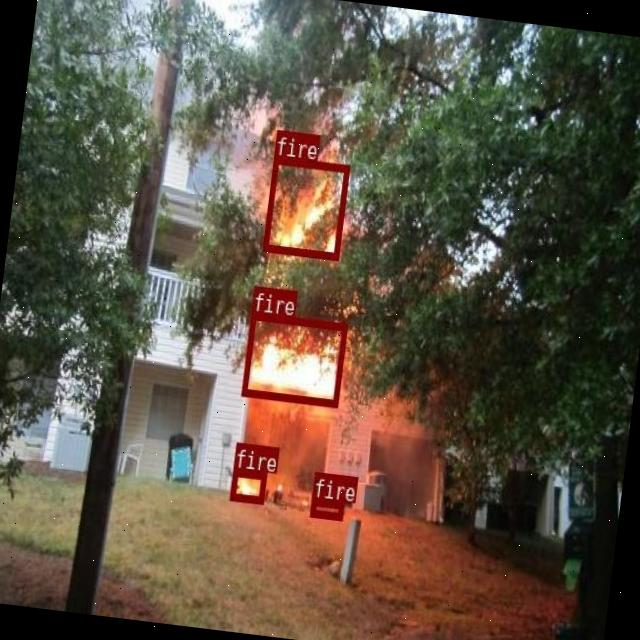fire: (240, 310, 346, 406), (262, 155, 349, 259), (228, 466, 266, 502), (309, 496, 343, 519)
